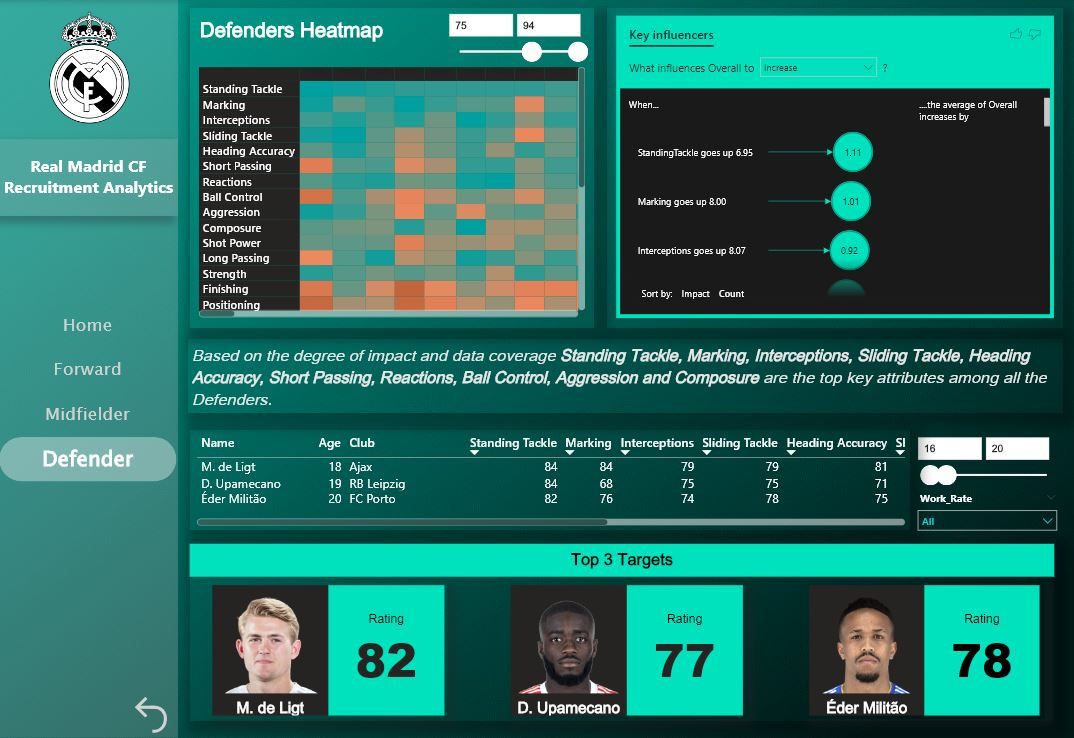

The page's visual inventory and layout, read from the dashboard file:
{"tool":"powerbi","page":{"name":"Defender","canvas":[1400,960],"ordinal":10},"visuals":[{"type":"shape","title":"side bar","box":[0,0,233.3,960],"z":0},{"type":"group","id":"g1","title":"Heatmap Background","box":[247.5,8.8,526.8,417.3],"z":0,"group":"g2"},{"type":"shape","title":"top bar 1","box":[247.5,10.4,526.8,415.7],"z":0,"group":"g1"},{"type":"slicer","fields":{"Values":["Players_fact.Age"]},"box":[1183.3,560,201.7,78.3],"z":1000},{"type":"pivotTable","title":"Forward Heatmap","fields":{"Values":["Sum(Players_Attributes_dim.StandingTackle)","Sum(Players_Attributes_dim.Marking)","Sum(Players_Attributes_dim.Interceptions)","Sum(Players_Attributes_dim.SlidingTackle)","Sum(Players_Attributes_dim.HeadingAccuracy)","Sum(Players_Attributes_dim.ShortPassing)","Sum(Players_Attributes_dim.Reactions)","Sum(Players_Attributes_dim.BallControl)","Sum(Players_Attributes_dim.Aggression)","Sum(Players_Attributes_dim.Composure)","Sum(Players_Attributes_dim.ShotPower)","Sum(Players_Attributes_dim.LongPassing)"],"Columns":["Players_fact.Player_ID"]},"box":[259.4,87.9,502.5,325],"z":1500,"group":"g2"},{"type":"textbox","box":[255.8,15.5,273.3,53.3],"z":2000,"group":"g1"},{"type":"shape","title":"Sidebar overlay","box":[0,180.9,233.3,100],"z":2000},{"type":"slicer","fields":{"Values":["Players_fact.Overall"]},"box":[572.8,8.8,201.5,77.8],"z":2500,"group":"g1"},{"type":"group","id":"g2","title":"Heatmap","box":[247.5,8.8,526.8,417.3],"z":3000},{"type":"shape","title":"top bar 1","box":[791.8,9.5,593.5,415.7],"z":4000},{"type":"keyDriversVisual","fields":{"Target":["Players_fact.Overall"],"ExplainBy":["Players_Attributes_dim.Acceleration","Players_Attributes_dim.Aggression","Players_Attributes_dim.Agility","Players_Attributes_dim.Balance","Players_Attributes_dim.BallControl","Players_Attributes_dim.Composure","Players_Attributes_dim.Crossing","Players_Attributes_dim.Curve","Players_Attributes_dim.Dribbling","Players_Attributes_dim.Finishing","Players_Attributes_dim.FKAccuracy","Players_Attributes_dim.Volleys"]},"box":[802.9,20.6,569.7,393.5],"z":5000},{"type":"shape","title":"top bar 1","box":[246.7,441.7,1138.3,96.7],"z":6000},{"type":"shape","title":"top bar 1","box":[248.3,560,936.7,130],"z":7000},{"type":"tableEx","fields":{"Values":["Players_fact.Name","Max(Players_fact.Age)","Clubs_dim.Club","Max(Players_Attributes_dim.StandingTackle)","Max(Players_Attributes_dim.Marking)","Max(Players_Attributes_dim.Interceptions)","Max(Players_Attributes_dim.SlidingTackle)","Max(Players_Attributes_dim.HeadingAccuracy)","Max(Players_Attributes_dim.ShortPassing)","Max(Players_Attributes_dim.Reactions)","Max(Players_Attributes_dim.BallControl)","Max(Players_Attributes_dim.Aggression)"]},"box":[251.7,560,931.7,130],"z":8000},{"type":"slicer","fields":{"Values":["Players_fact.Work_Rate"]},"box":[1185,638.3,201.7,63.3],"z":9000},{"type":"textbox","title":"Header name","box":[0,195.2,233.3,93.6],"z":10000},{"type":"image","title":"club logo","box":[1.6,9.5,231.7,155.5],"z":11000},{"type":"textbox","title":"insight text","box":[246.7,441.7,1128.3,96.7],"z":12000},{"type":"shape","title":"top bar 1","box":[247.5,707.7,1125,230.1],"z":12000,"group":"g3"},{"type":"group","id":"g3","title":"Group 1","box":[247.5,707.7,1125,230.1],"z":13000},{"type":"textbox","box":[247.5,707.7,1125,42.8],"z":14000,"group":"g3"},{"type":"cardVisual","fields":{"Data":["Min(Players_fact.Name)","Max(Players_fact.Overall)"]},"box":[271.7,756.7,312,180],"z":14000},{"type":"cardVisual","fields":{"Data":["Min(Players_fact.Name)","Max(Players_fact.Overall)"]},"box":[660.8,756.7,312,180],"z":15000},{"type":"cardVisual","fields":{"Data":["Min(Players_fact.Name)","Max(Players_fact.Overall)"]},"box":[1050,756.7,311.7,180],"z":16000},{"type":"pageNavigator","box":[0,394.7,231.2,235.5],"z":17000},{"type":"actionButton","box":[167.9,900.7,65.4,58.9],"z":18000}]}

Visuals, with their boxes in screenshot pixels (x1, y1, x2, y2), scaled from the page's 1400x960 canvas onto the 1074x738 screenshot:
"side bar" shape: (0,0,179,737)
"Heatmap Background" group: (190,7,594,328)
"top bar 1" shape: (190,8,594,328)
slicer - Players_fact.Age: (908,430,1062,491)
"Forward Heatmap" pivotTable: (199,68,584,317)
textbox: (196,12,406,53)
"Sidebar overlay" shape: (0,139,179,216)
slicer - Players_fact.Overall: (439,7,594,67)
"Heatmap" group: (190,7,594,328)
"top bar 1" shape: (607,7,1063,327)
keyDriversVisual - Players_fact.Overall x Players_Attributes_dim.Acceleration: (616,16,1053,318)
"top bar 1" shape: (189,340,1062,414)
"top bar 1" shape: (190,430,909,530)
tableEx - Players_fact.Name x Max(Players_fact.Age): (193,430,908,530)
slicer - Players_fact.Work_Rate: (909,491,1064,539)
"Header name" textbox: (0,150,179,222)
"club logo" image: (1,7,179,127)
"insight text" textbox: (189,340,1055,414)
"top bar 1" shape: (190,544,1053,721)
"Group 1" group: (190,544,1053,721)
textbox: (190,544,1053,577)
cardVisual - Min(Players_fact.Name) x Max(Players_fact.Overall): (208,582,448,720)
cardVisual - Min(Players_fact.Name) x Max(Players_fact.Overall): (507,582,746,720)
cardVisual - Min(Players_fact.Name) x Max(Players_fact.Overall): (806,582,1045,720)
pageNavigator: (0,303,177,484)
actionButton: (129,692,179,737)
